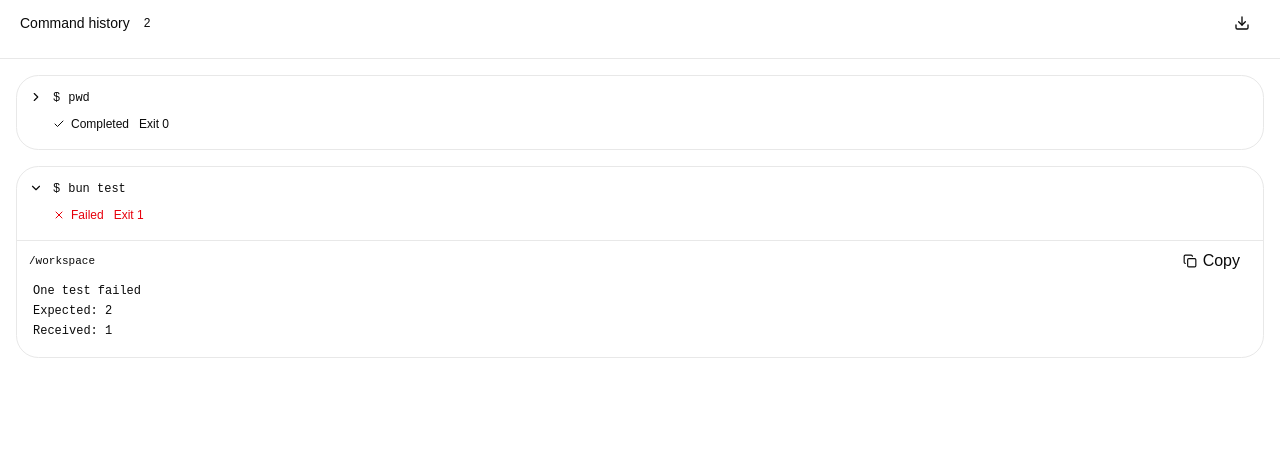
Test: ChatGPT command history › failed commands retain their output and exit code while copying sends the exact output
This screenshot has width=1280, height=452.
Expected: the text "Failed" is shown, [71,208,104,222]
Expected: the text "Exit 1" is shown, [114,207,144,223]
Step 1. Click the button with aria-label "Copy output" → point(1211, 261), box [1172,245,1251,277]
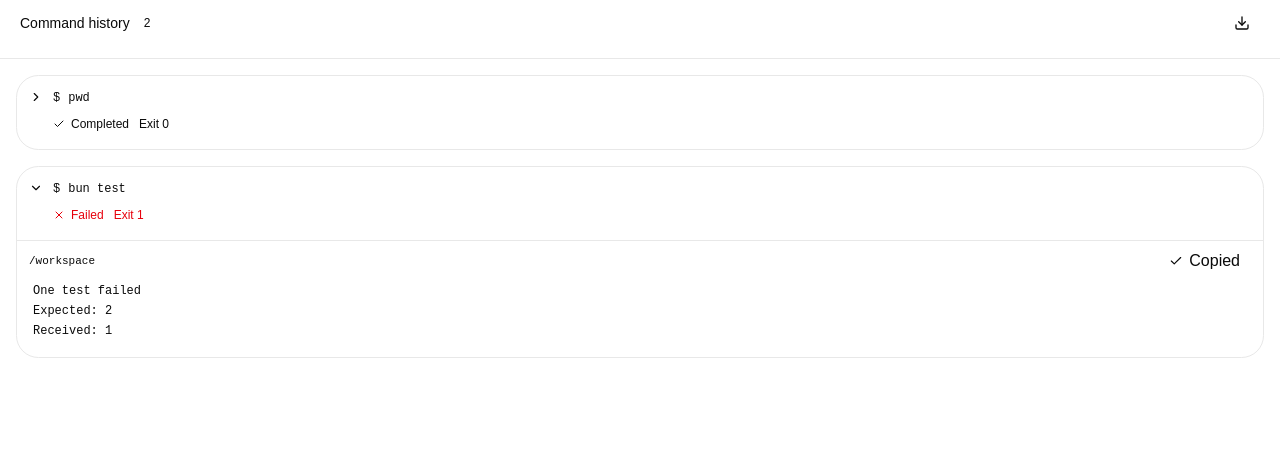
Expected: the text "Copied" is shown, [1189,248,1240,274]
Step 2. Click the button "$pwd Completed Exit 0" → point(100, 124), box [17,76,1263,149]
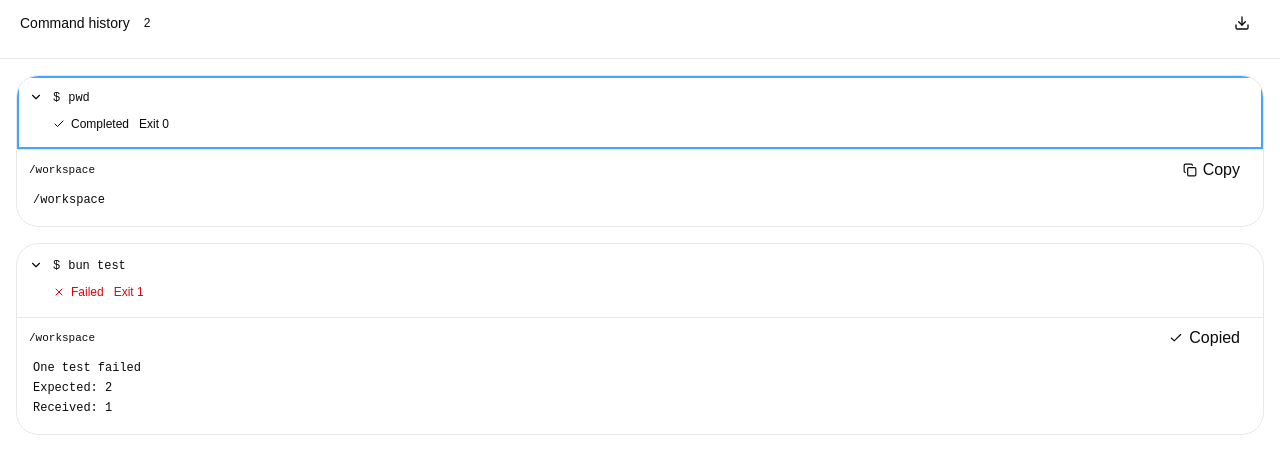
Expected: the button "$pwd Completed Exit 0" is expanded, [17,76,1263,149]
Expected: the text named "pwd" reads "/workspace", [33,193,105,207]
